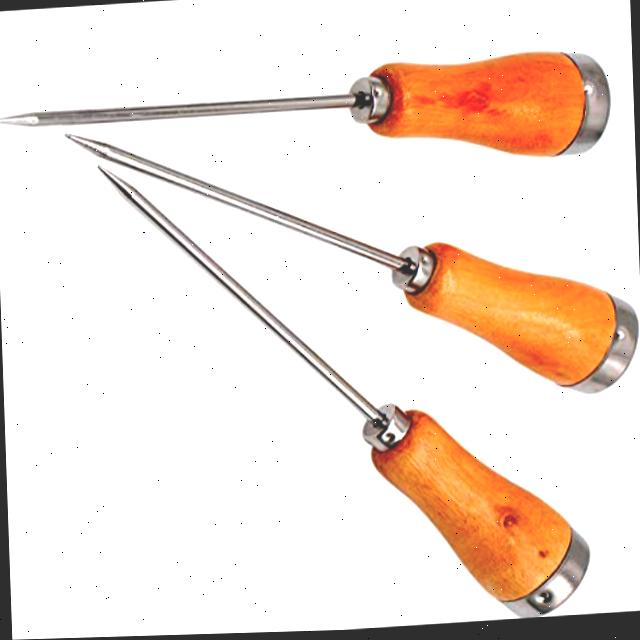ice pick: (98, 137, 591, 638), (63, 101, 640, 427), (0, 50, 613, 193)
